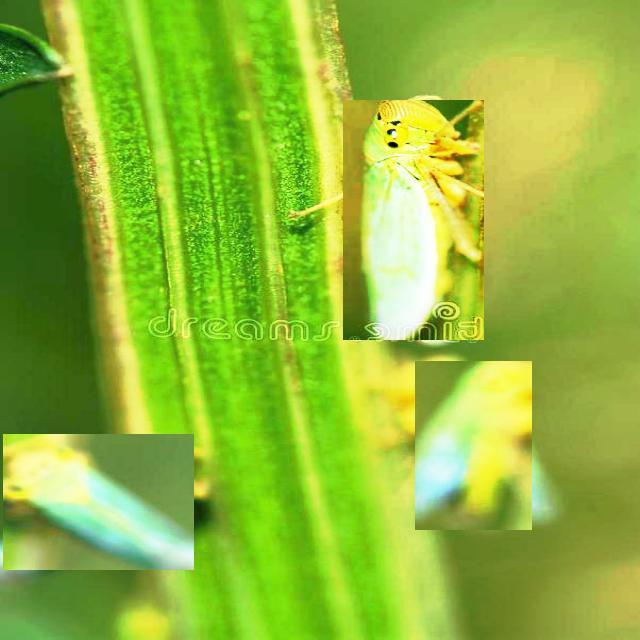green-leafhopper: (343, 101, 484, 341), (3, 434, 194, 570), (415, 362, 532, 532)
